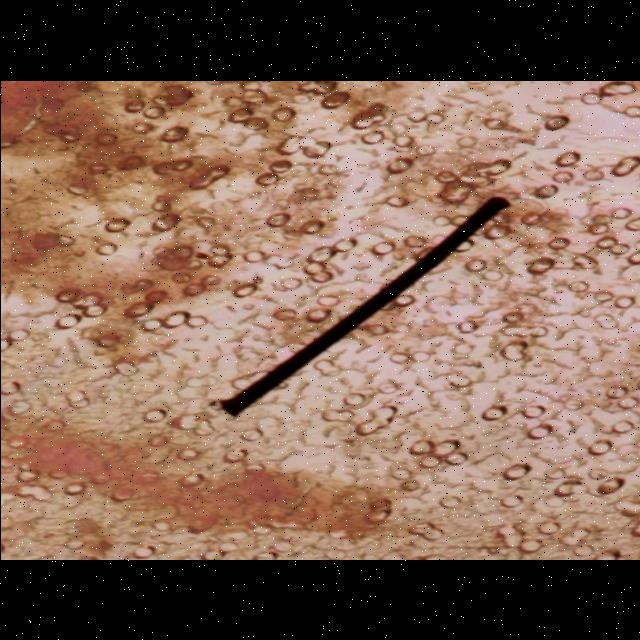Fibre: (210, 194, 512, 420)
